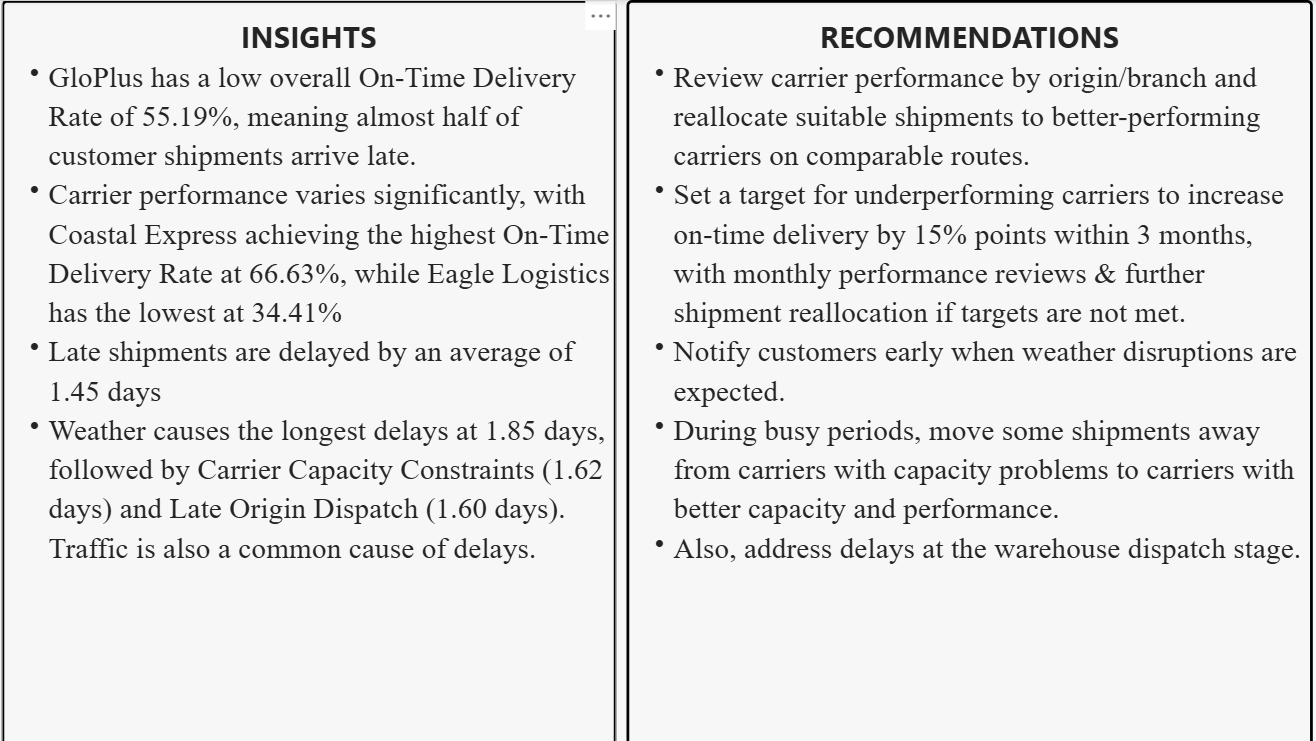

What the dashboard file says about the page in this screenshot:
{"tool":"powerbi","page":{"name":"Insights & Recommendations","canvas":[1920,1080],"ordinal":1},"visuals":[{"type":"textbox","box":[10.9,0,890.4,1080.4],"z":0},{"type":"textbox","box":[915.7,0,993.5,1080.4],"z":1000}]}

Visuals, with their boxes in screenshot pixels (x1, y1, x2, y2), scaled from the page's 1920x1080 canvas onto the 1316x741 screenshot:
textbox: box=[7, 0, 618, 740]
textbox: box=[628, 0, 1309, 740]
